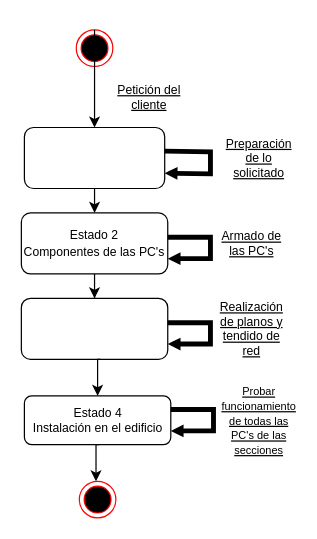
Image size: 317x539. Some labels were removed from this diagram. The shapes that lost their labels are listed below. From the top down, each one's box as (x1, y1, x2, y2) in pixels, then its label:
(23, 126, 165, 188): Estado 1 Secciones sin PC's
(20, 297, 168, 359): Estado 3 Planos de las secciones con las PC's
